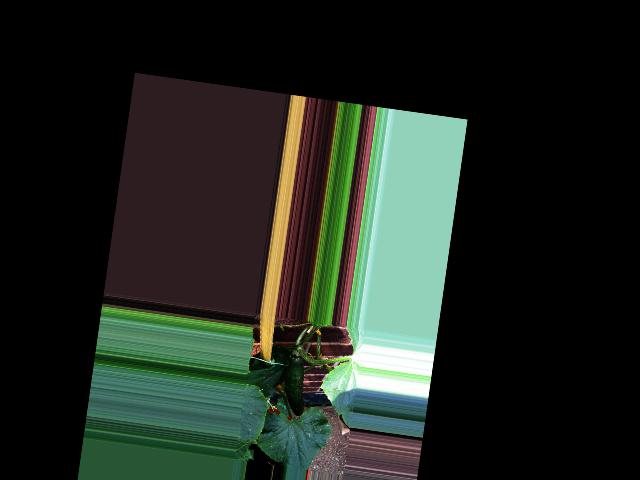cucumber: (280, 353, 312, 416)
